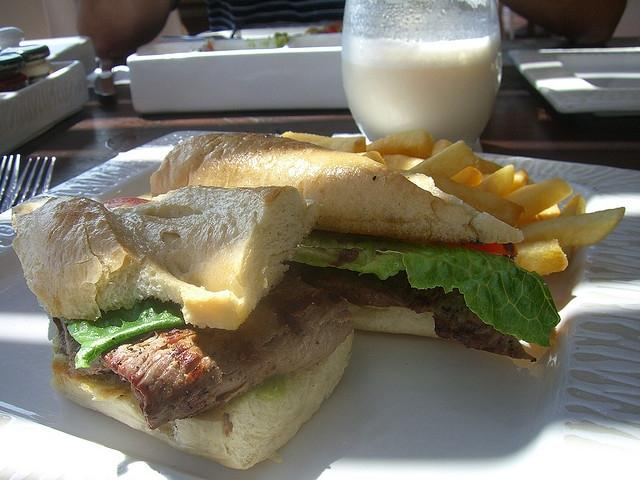lettuce: (293, 230, 562, 348), (57, 298, 186, 370)
